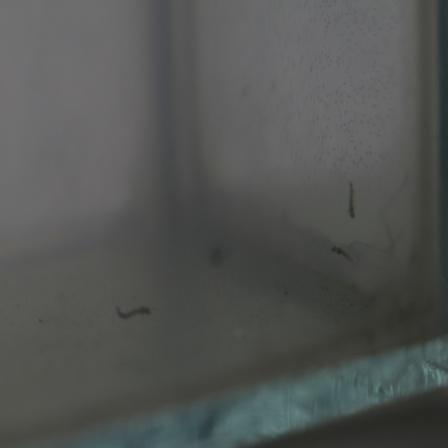Jentik-Nyamuk: (326, 243, 360, 267), (345, 179, 359, 224)
